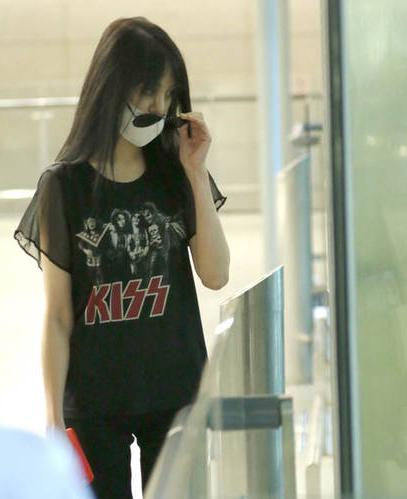WRONG: (110, 77, 173, 146)
